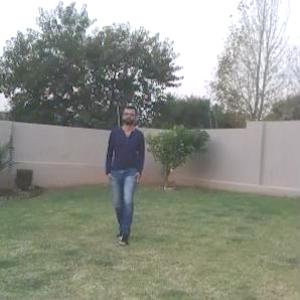follow: (101, 102, 150, 246)
